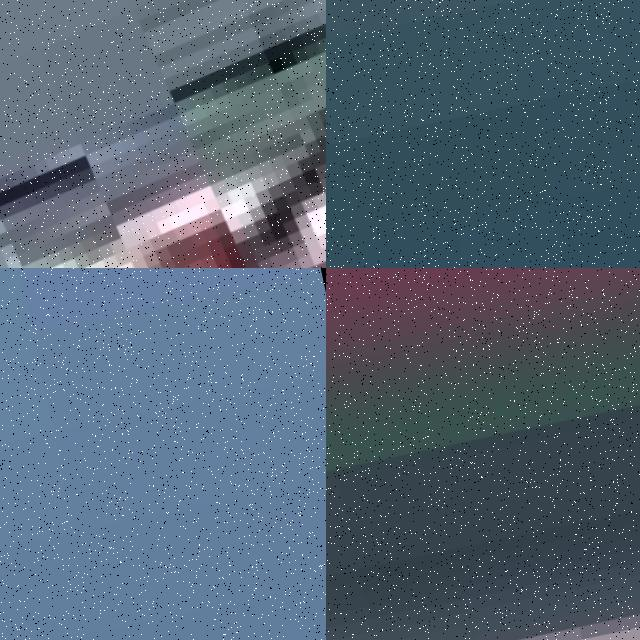drone: (0, 0, 326, 268)
